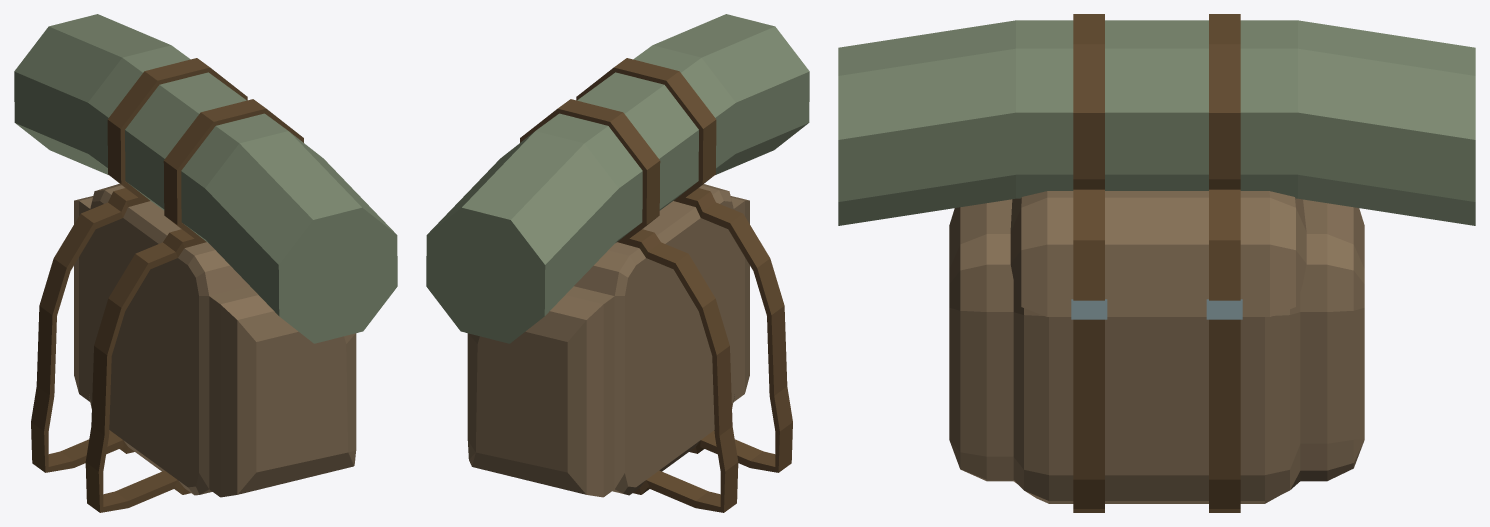
The model's file is Pack1.fbx.
3 views of the same model, side by side, from view 1: azimuth 30°, elevation 25°; view 2: azimuth 150°, elevation 25°; view 3: azimuth 270°, elevation 25° (orthographic). The views are drawn at different scales.
Visible parts, largest first — view 1: Sleeping Bag, Pack, Straps, Sleeping Bag Straps, PackTop; view 2: Sleeping Bag, Pack, Straps, Sleeping Bag Straps, PackTop; view 3: Sleeping Bag, Pack, PackTop, Straps, Sleeping Bag Straps, Buckle.
Part boxes in pixels (x1,y1,x2,y2): Sleeping Bag: [14, 14, 397, 343]; Pack: [74, 190, 356, 497]; Straps: [31, 188, 200, 512]; Sleeping Bag Straps: [107, 58, 303, 243]; PackTop: [96, 183, 249, 295]; Sleeping Bag: [426, 14, 809, 343]; Pack: [467, 190, 749, 497]; Straps: [617, 188, 792, 512]; Sleeping Bag Straps: [520, 58, 716, 238]; PackTop: [574, 184, 727, 295]; Sleeping Bag: [838, 20, 1475, 225]; Pack: [949, 199, 1364, 503]; PackTop: [1010, 191, 1306, 316]; Straps: [1073, 189, 1240, 512]; Sleeping Bag Straps: [1073, 14, 1240, 189]; Buckle: [1071, 299, 1242, 319].
Size of the model in its own units: 53.13 by 76.45 by 100.
Materials: 1 (1 with a texture image).
